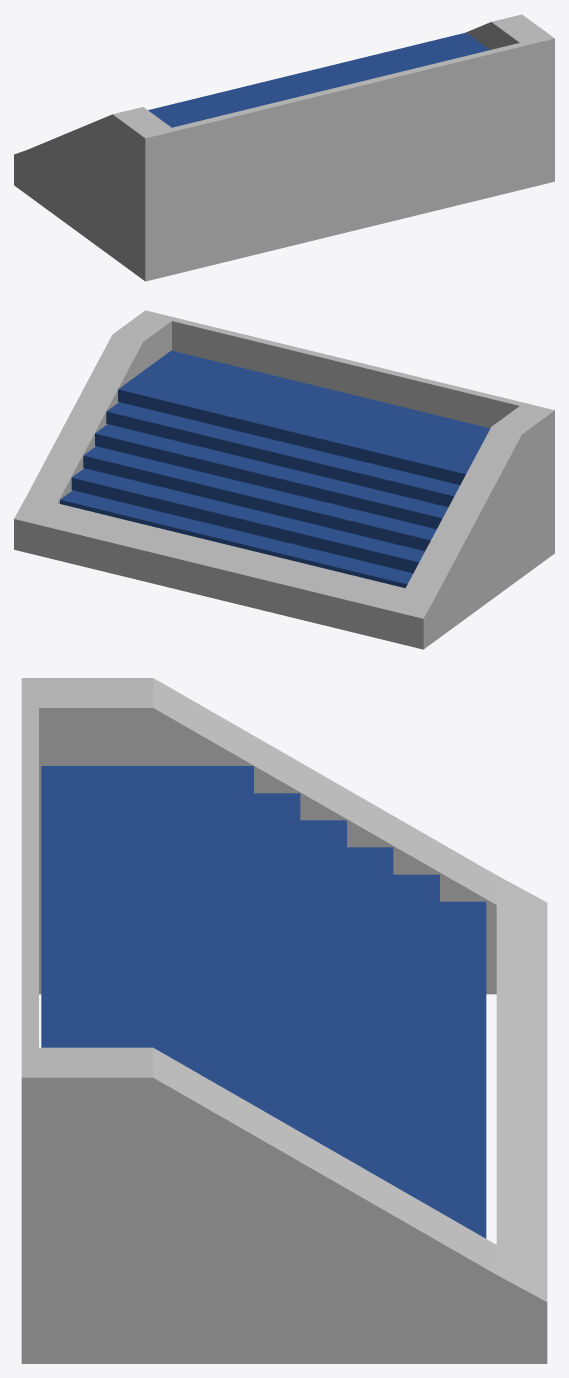
The model's file is Stadium Seats.glb.
3 views of the same model, one above another, from view 1: azimuth 30°, elevation 25°; view 2: azimuth 150°, elevation 25°; view 3: azimuth 270°, elevation 25° (orthographic). The views are drawn at different scales.
Parts seen in each view (by area): view 1: StadiumSits1_Cube.001; view 2: StadiumSits1_Cube.001; view 3: StadiumSits1_Cube.001.
Part boxes in pixels (bbox=[...]): StadiumSits1_Cube.001: bbox=[14, 14, 554, 281]; StadiumSits1_Cube.001: bbox=[14, 310, 554, 649]; StadiumSits1_Cube.001: bbox=[21, 678, 547, 1363].
Bounding box in the file's own units: 21.8 × 7.28 × 12.12.
